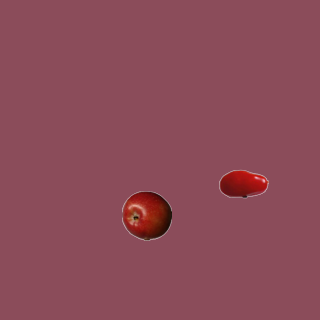Apple Braeburn: (121, 190, 171, 240)
Tomato 2: (218, 158, 268, 208)
